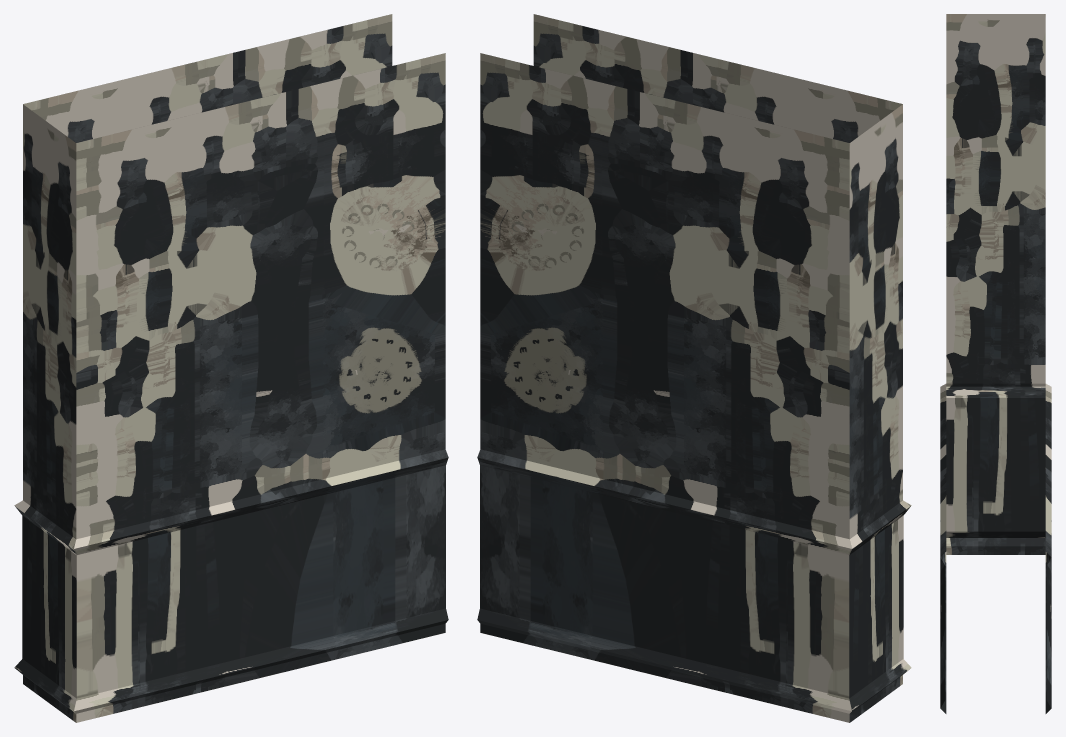
The model's file is kitchen_wall_2.fbx.
3 views of the same model, side by side, from view 1: azimuth 30°, elevation 25°; view 2: azimuth 150°, elevation 25°; view 3: azimuth 270°, elevation 25° (orthographic). The views are drawn at different scales.
Visible parts, largest first — view 1: kitchen wall 2; view 2: kitchen wall 2; view 3: kitchen wall 2.
Part boxes in pixels (bbox=[...]): kitchen wall 2: bbox=[14, 14, 448, 722]; kitchen wall 2: bbox=[477, 14, 911, 722]; kitchen wall 2: bbox=[940, 14, 1051, 713].
Bounding box in the file's own units: 406 × 600 × 112.
